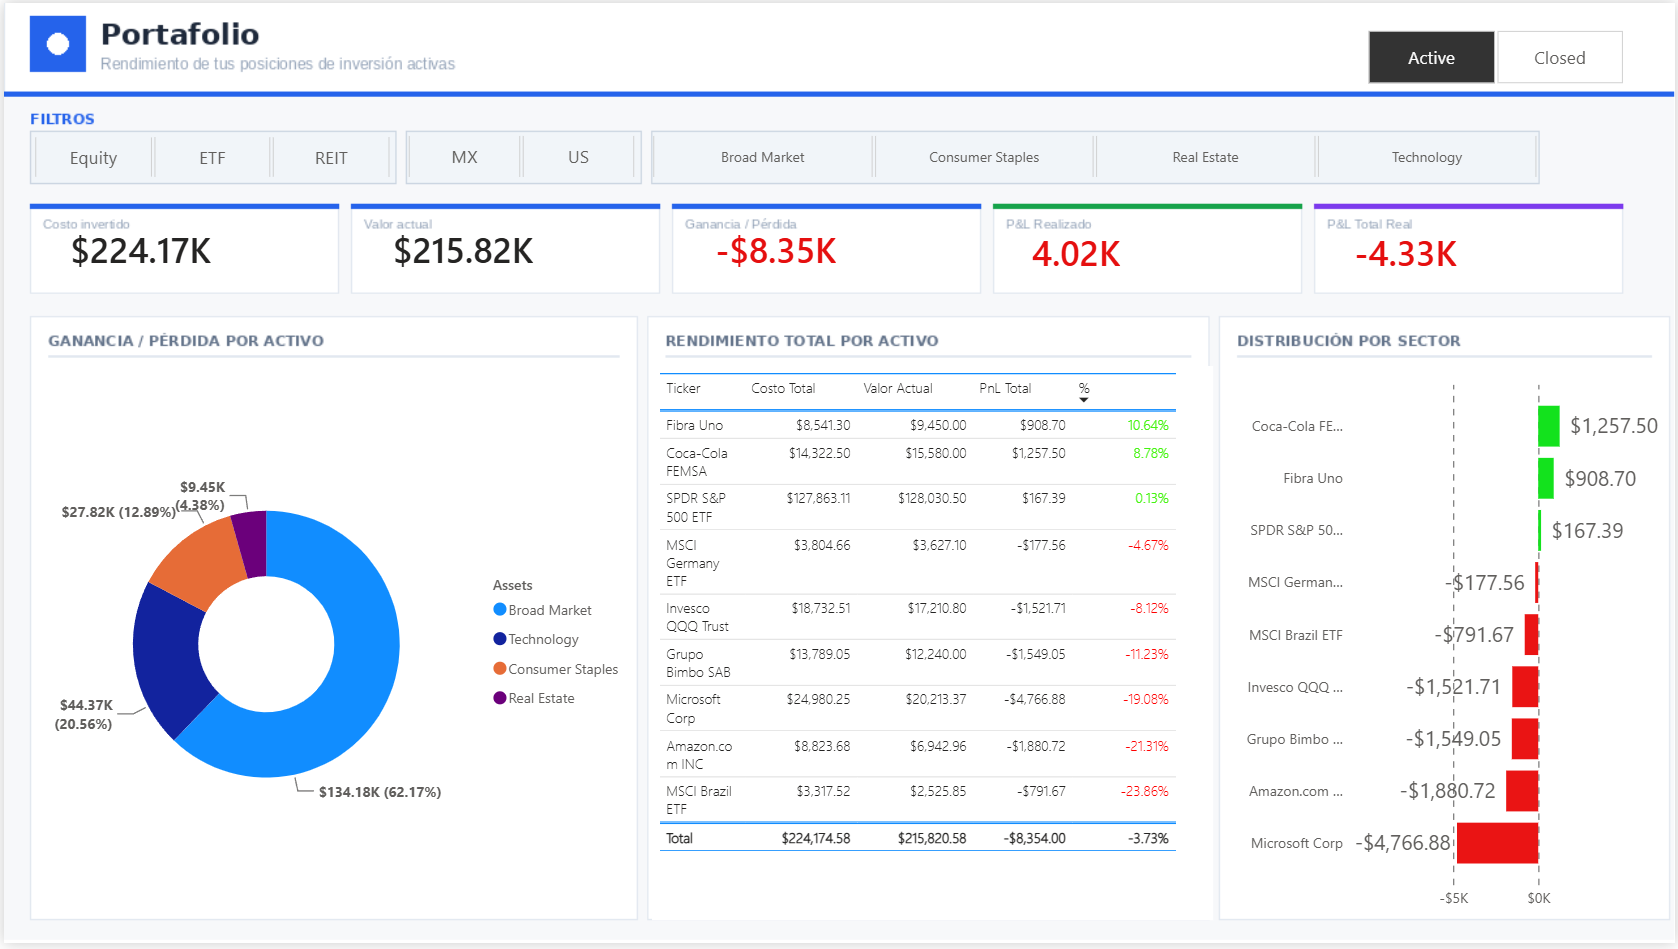

Layout of this report page (visuals, bound fields, positions):
{"tool":"powerbi","page":{"name":"Portafolio","canvas":[1280,720],"ordinal":1},"visuals":[{"type":"cardVisual","title":"Costo invertido","fields":{"Data":["Fact_Transactions.Costo Total MXN"]},"box":[22.1,154.5,231.2,66.2],"z":0},{"type":"clusteredBarChart","title":"Ganancia / Pérdida por activo","fields":{"Category":["Fact_Transactions.AssetName"],"Y":["Fact_CurrentPrices.PnL Total MXN"]},"box":[935.1,279.2,345.5,423.4],"z":1000},{"type":"slicer","title":"Mercado","fields":{"Values":["Fact_Transactions.Market"]},"box":[285.7,96.1,220.8,41.6],"z":2000},{"type":"slicer","title":"Tipo de activo","fields":{"Values":["Dim_Assets.AssetClass"]},"box":[0,97.4,319.5,40.3],"z":3000},{"type":"cardVisual","title":"Valor actual","fields":{"Data":["Fact_CurrentPrices.Valor Actual MXN"]},"box":[268.8,154.5,228.6,66.2],"z":4000},{"type":"cardVisual","title":"Ganancia / Pérdida","fields":{"Data":["Fact_CurrentPrices.PnL Total MXN"]},"box":[515.6,154.5,233.8,66.2],"z":5000},{"type":"tableEx","title":"Rendimiento total por activo","fields":{"Values":["Fact_Transactions.AssetName","Fact_Transactions.Costo Total MXN","Fact_CurrentPrices.Valor Actual MXN","Fact_CurrentPrices.PnL Total MXN","Fact_CurrentPrices.Rendimiento %"]},"box":[496.1,277.9,429.9,424.7],"z":6000},{"type":"slicer","title":"Sector","fields":{"Values":["Dim_Assets.Sector"]},"box":[474,96.1,724.7,41.6],"z":7000},{"type":"donutChart","title":"Distribución por sector","fields":{"Category":["Dim_Assets.Sector"],"Y":["Fact_CurrentPrices.Valor Actual MXN"]},"box":[22.1,279.2,463.6,423.4],"z":8000},{"type":"slicer","title":"Mercado","fields":{"Values":["Fact_Transactions.Status"]},"box":[1022.1,15.6,242.9,50.6],"z":9000},{"type":"cardVisual","title":"Ganancia / Pérdida","fields":{"Data":["Fact_Transactions.PnL Realizado MXN"]},"box":[758.4,155.8,233.8,66.2],"z":10000},{"type":"cardVisual","title":"Ganancia / Pérdida","fields":{"Data":["Fact_Transactions.PnL Total Real MXN"]},"box":[1005.2,155.8,233.8,66.2],"z":11000}]}

Visuals, with their boxes in screenshot pixels (x1, y1, x2, y2), scaled from the page's 1280x720 canvas onto the 1678x949 screenshot:
"Costo invertido" cardVisual: <box>29,204,332,291</box>
"Ganancia / Pérdida por activo" clusteredBarChart: <box>1226,368,1677,926</box>
"Mercado" slicer: <box>375,127,664,181</box>
"Tipo de activo" slicer: <box>0,128,419,181</box>
"Valor actual" cardVisual: <box>352,204,652,291</box>
"Ganancia / Pérdida" cardVisual: <box>676,204,982,291</box>
"Rendimiento total por activo" tableEx: <box>650,366,1214,926</box>
"Sector" slicer: <box>621,127,1571,181</box>
"Distribución por sector" donutChart: <box>29,368,637,926</box>
"Mercado" slicer: <box>1340,21,1658,87</box>
"Ganancia / Pérdida" cardVisual: <box>994,205,1301,293</box>
"Ganancia / Pérdida" cardVisual: <box>1318,205,1624,293</box>
